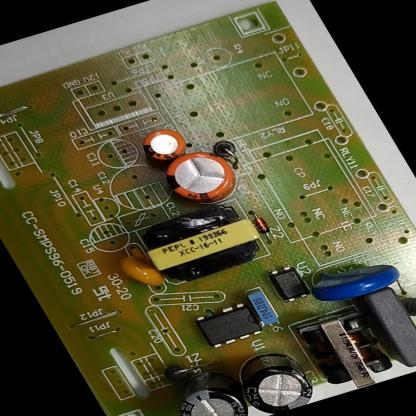Cap1: (152, 142, 252, 212)
Cap2: (131, 120, 199, 168)
Cap3: (221, 342, 325, 416)
Cap4: (157, 364, 256, 416)
MOSFET: (188, 296, 268, 352)
Mov: (295, 246, 410, 311)
Resistor: (396, 283, 416, 325)
Transformer: (129, 196, 273, 288), (282, 302, 403, 398)
